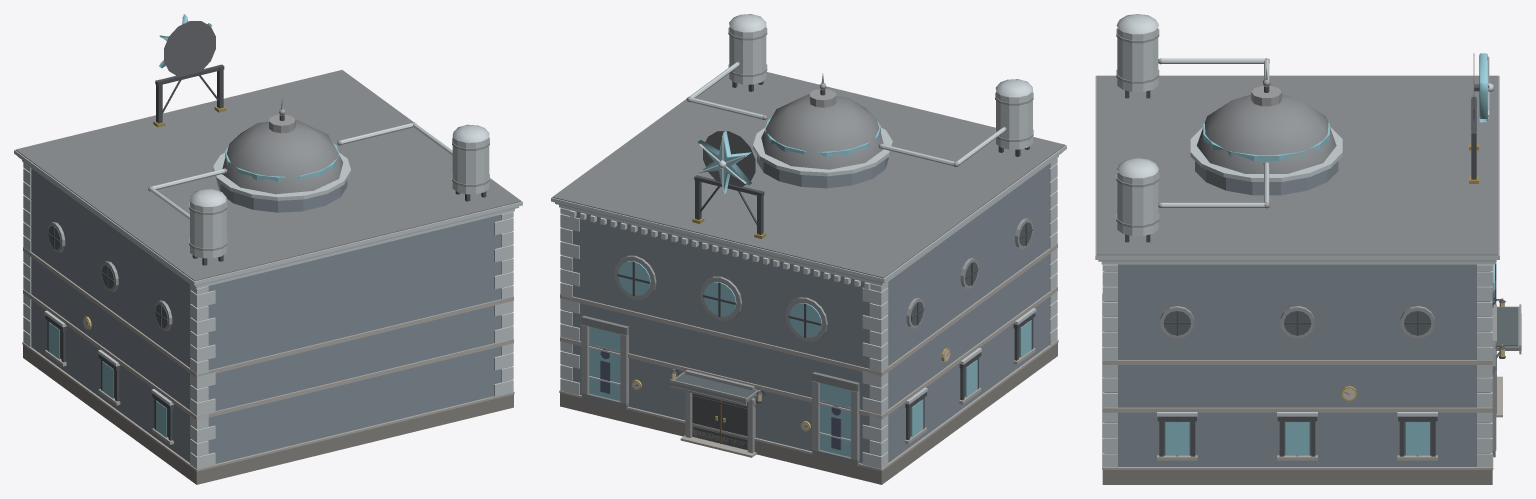
File: centro-criolab-983db97b.glb
The picture shows the model from 3 angles, left to right: view 1: azimuth 30°, elevation 25°; view 2: azimuth 150°, elevation 25°; view 3: azimuth 270°, elevation 25°; orthographic projection. The views are drawn at different scales.
Visible parts, largest first — view 1: centro_criolab_body, centro_criolab_wall, centro_criolab_glow; view 2: centro_criolab_body, centro_criolab_wall, centro_criolab_glow; view 3: centro_criolab_body, centro_criolab_wall, centro_criolab_glow.
Boxes of the visible parts, left/top/right/bottom form: centro_criolab_body: left=14, top=21, right=522, bottom=471; centro_criolab_wall: left=23, top=168, right=513, bottom=484; centro_criolab_glow: left=48, top=14, right=339, bottom=437; centro_criolab_body: left=551, top=14, right=1066, bottom=471; centro_criolab_wall: left=560, top=164, right=1057, bottom=484; centro_criolab_glow: left=589, top=117, right=1031, bottom=457; centro_criolab_body: left=1095, top=14, right=1521, bottom=469; centro_criolab_wall: left=1102, top=264, right=1492, bottom=484; centro_criolab_glow: left=1165, top=53, right=1494, bottom=455.
Size of the model in its own units: 14 by 12.5 by 14.02.
